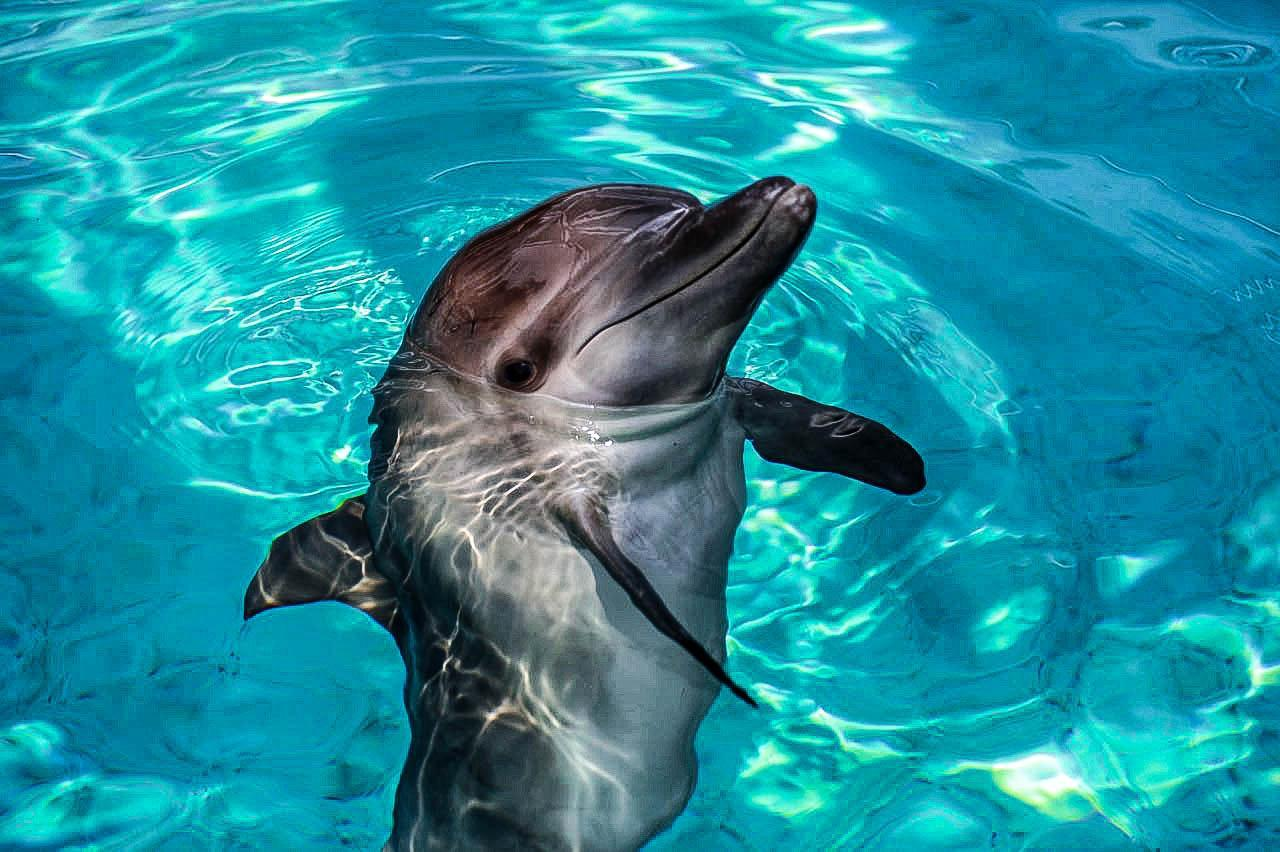fish: (242, 169, 926, 852)
